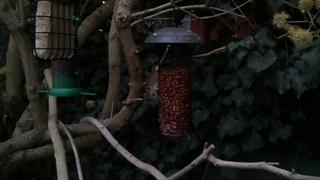mouse: (144, 71, 159, 101)
